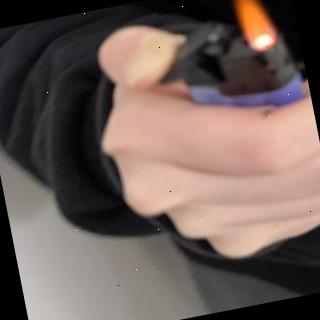fire: (228, 0, 280, 57)
